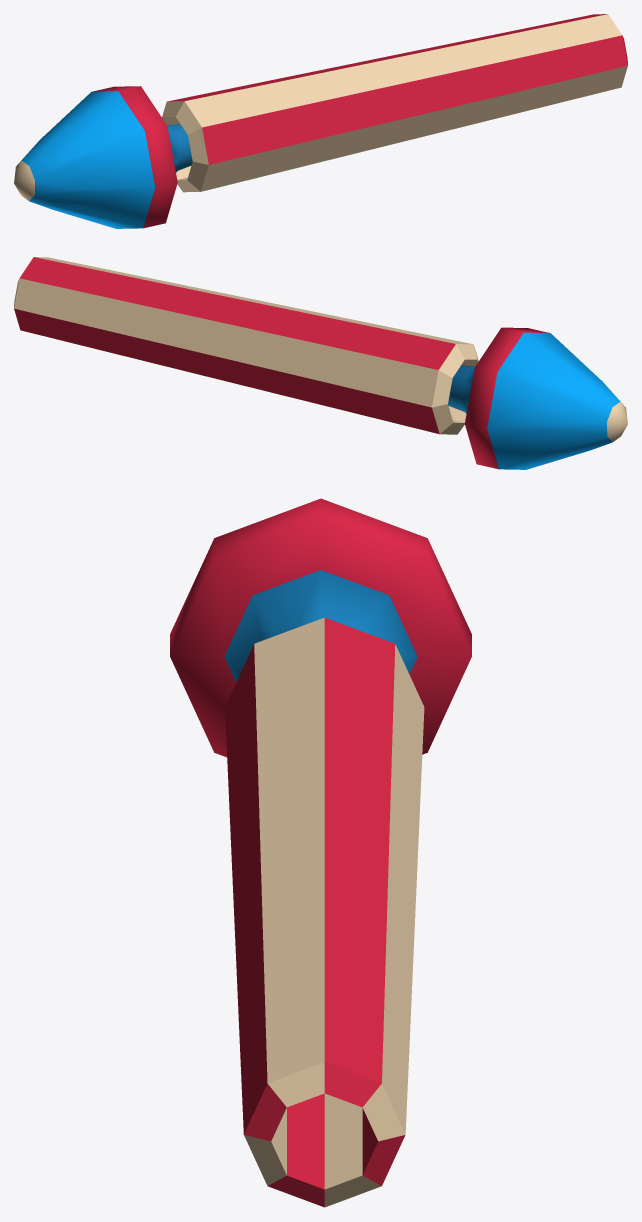
The model's file is bazooka.fbx.
The picture shows the model from 3 angles, top to bottom: view 1: azimuth 30°, elevation 25°; view 2: azimuth 150°, elevation 25°; view 3: azimuth 270°, elevation 25°; orthographic projection. The views are drawn at different scales.
Visible parts, largest first — view 1: Cube.001, Cone.001; view 2: Cube.001, Cone.001; view 3: Cube.001, Cone.001.
Part boxes in pixels (x1,y1,x2,y2): Cube.001: (162,14,627,192); Cone.001: (14,86,192,228); Cube.001: (14,257,478,434); Cone.001: (448,327,627,469); Cube.001: (225,617,424,1207); Cone.001: (170,498,471,757).
Size of the model in its own units: 217 by 47.47 by 47.33.
